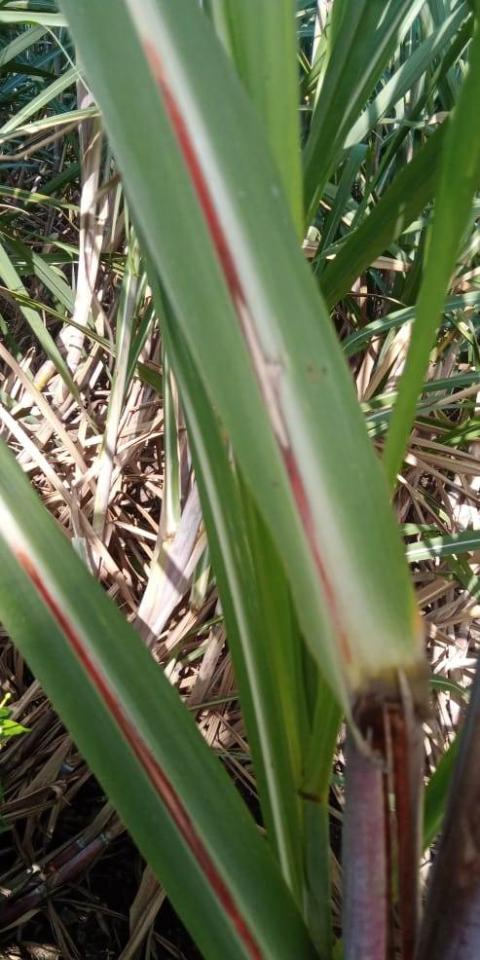RedRot: (142, 37, 353, 669), (15, 549, 265, 959)
